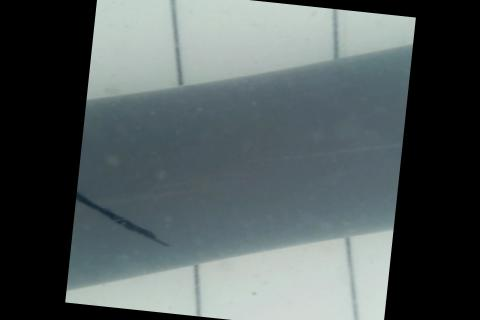keretakan: (70, 188, 177, 250)
